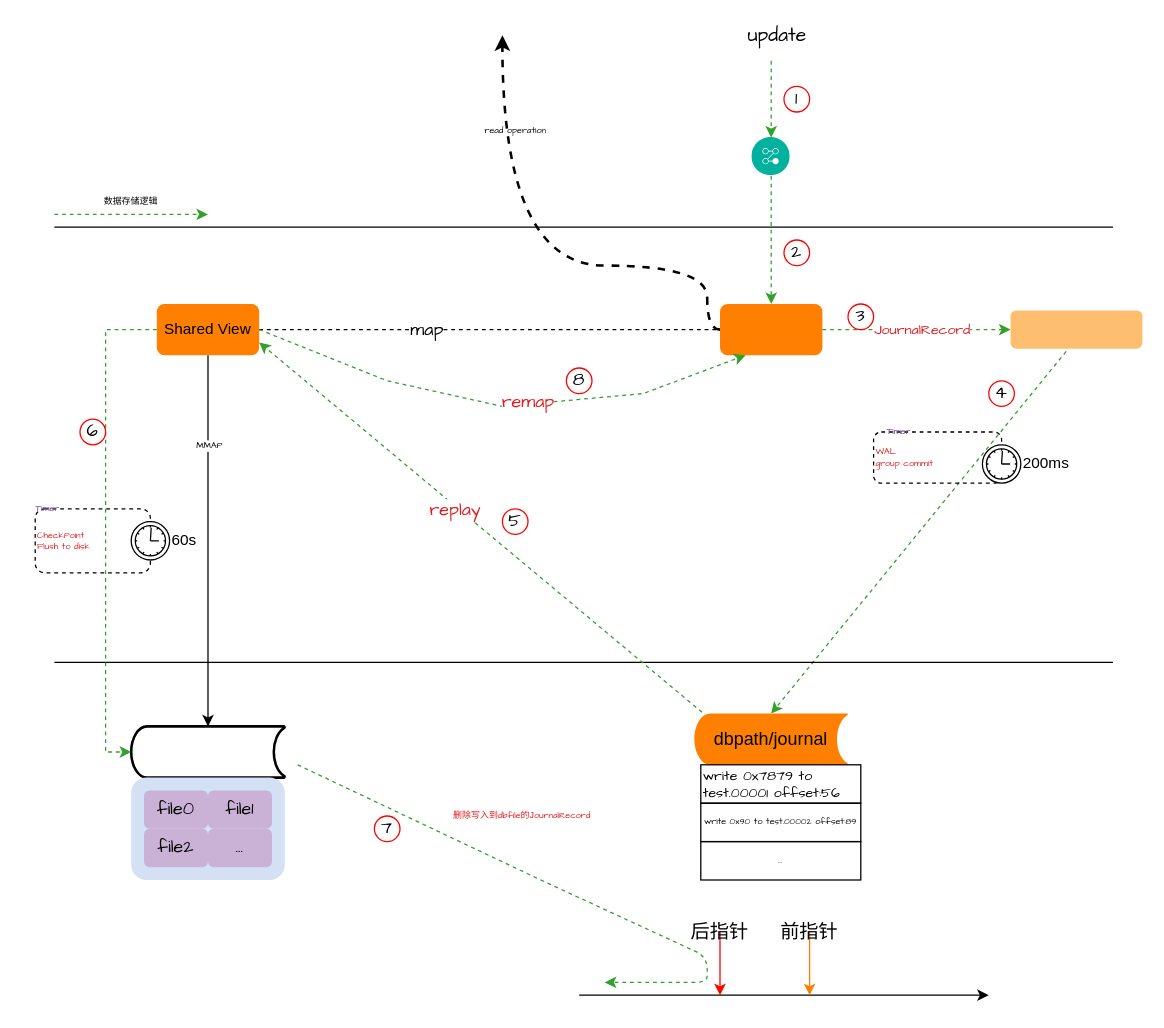
The diagram is 1164 pixels wide and 1028 high, and some of its shapes have lost their labels. Each missing label, with the centre of its shape:
"dbpath" belongs at point 207,751.
"private cache" belongs at point 1076,329.
"Private View" belongs at point 770,329.
